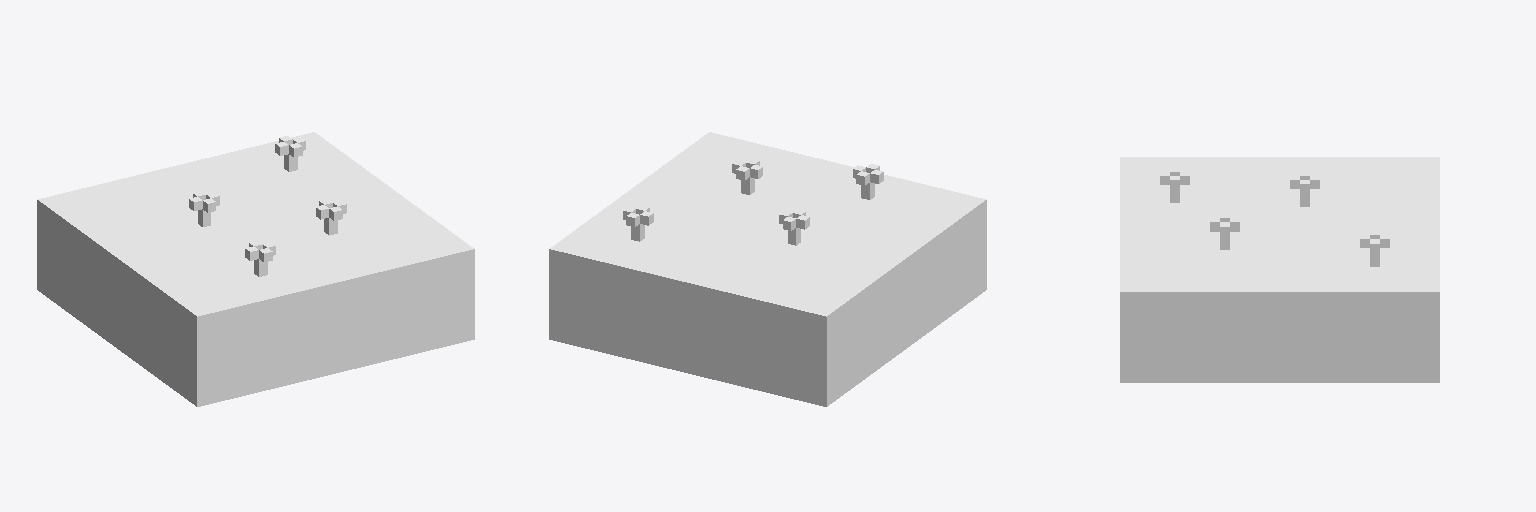
Rendered from Overworld_Beach_04.obj.
3 renders of one model, left to right at view 1: azimuth 30°, elevation 25°; view 2: azimuth 150°, elevation 25°; view 3: azimuth 270°, elevation 25°, orthographic.
Visible parts, largest first — view 1: object 1; view 2: object 1; view 3: object 1.
Part boxes in pixels (left/top/right/bottom): object 1: left=37, top=132, right=474, bottom=406; object 1: left=549, top=132, right=986, bottom=406; object 1: left=1120, top=157, right=1439, bottom=382.
Bounding box in the file's own units: 3.2 × 1.3 × 3.2.